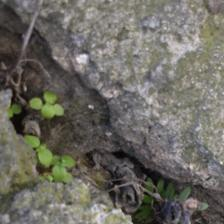Crack: (13, 10, 204, 216)
